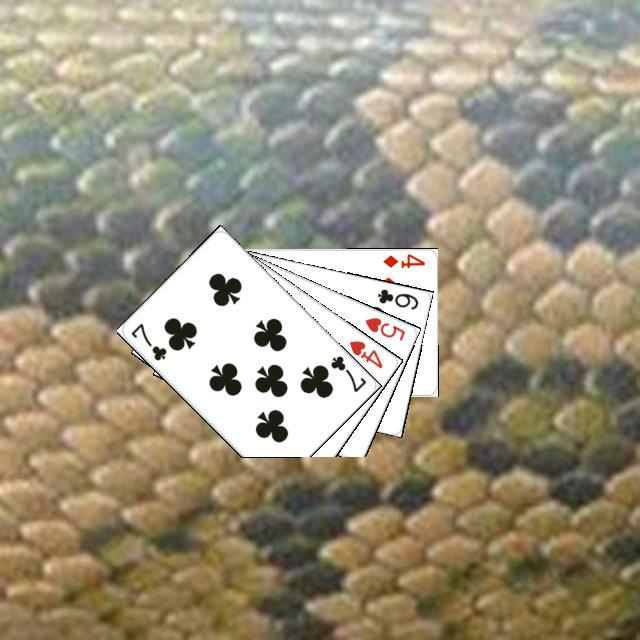4d: (378, 249, 426, 270)
4h: (344, 335, 384, 370)
5h: (359, 312, 407, 342)
6c: (372, 284, 420, 311)
7c: (126, 318, 169, 363), (325, 351, 368, 394)
